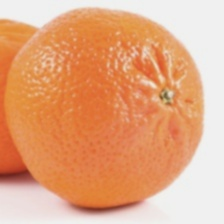orange: (20, 31, 209, 213)
